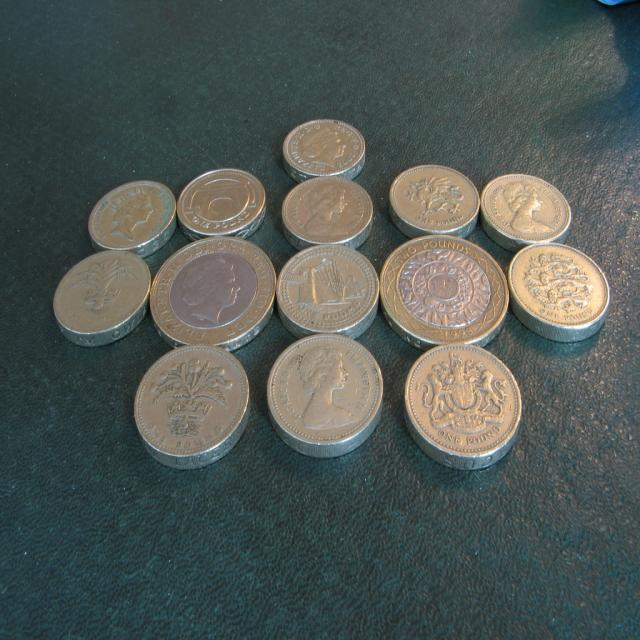Coin: (52, 119, 612, 473), (126, 343, 252, 463)
